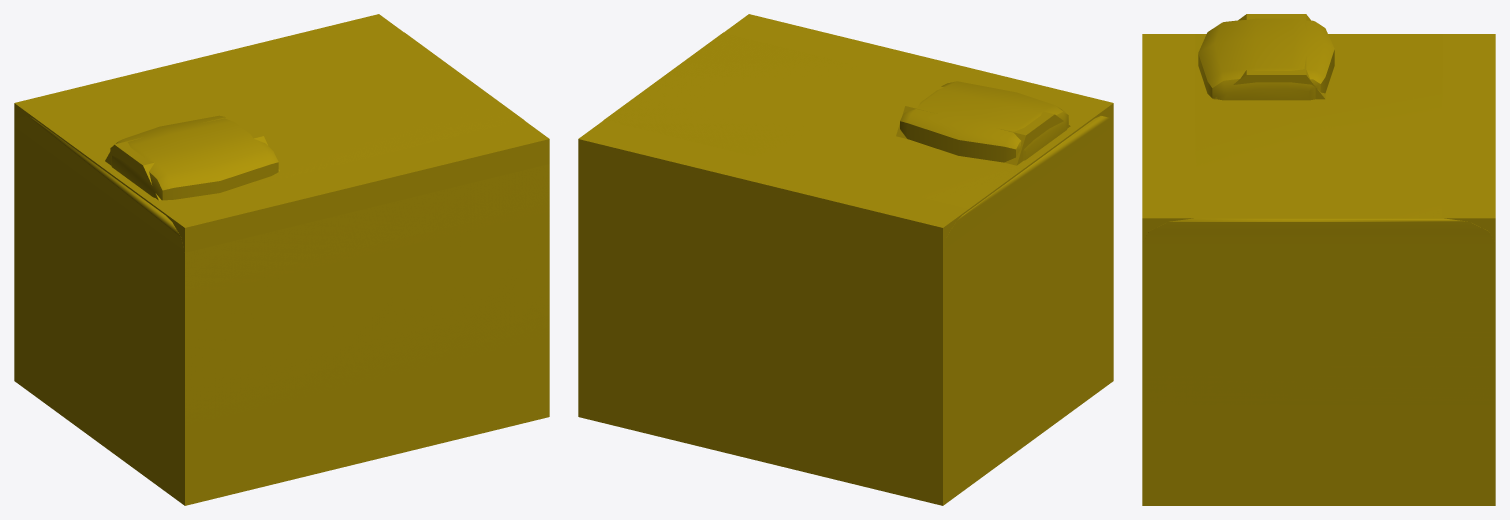
File: hedge01.fbx
3 renders of one model, left to right at view 1: azimuth 30°, elevation 25°; view 2: azimuth 150°, elevation 25°; view 3: azimuth 270°, elevation 25°, orthographic. The views are drawn at different scales.
Parts seen in each view (by area): view 1: hp_hedge1, lp_hedge1; view 2: hp_hedge1, lp_hedge1; view 3: hp_hedge1, lp_hedge1.
Boxes of the visible parts, x1,y1,x2,y2 form: hp_hedge1: [14, 32, 549, 505]; lp_hedge1: [14, 14, 549, 505]; hp_hedge1: [578, 32, 1113, 505]; lp_hedge1: [578, 14, 1113, 505]; hp_hedge1: [1142, 18, 1495, 505]; lp_hedge1: [1142, 14, 1495, 505].
Bounding box in the file's own units: 100 × 79.37 × 81.08.
